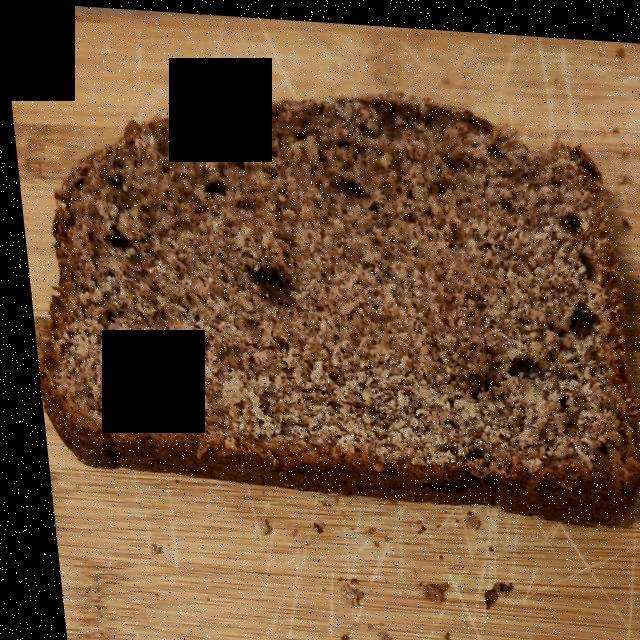cake: (40, 96, 634, 501)
